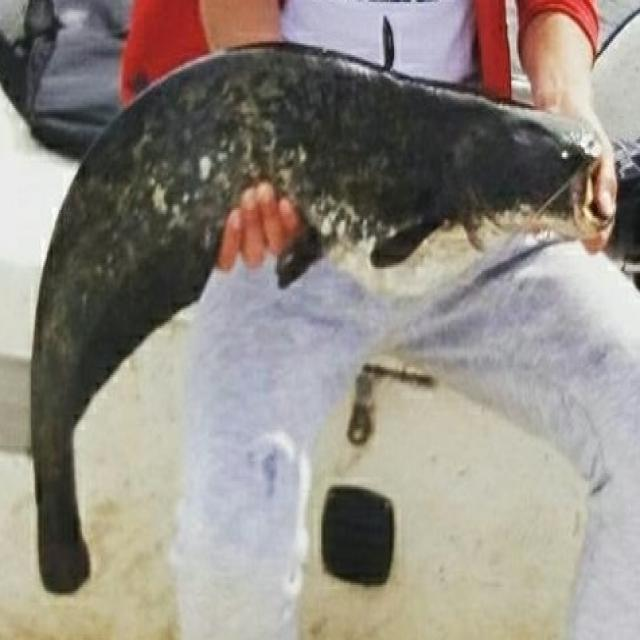Catfish: (19, 19, 631, 640)
